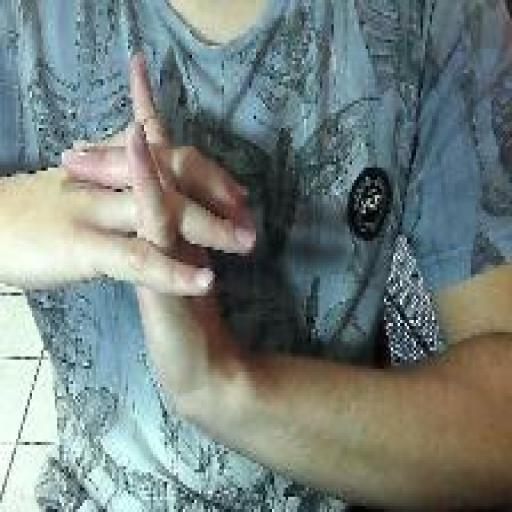Ushi -ox-: (60, 48, 260, 438)
